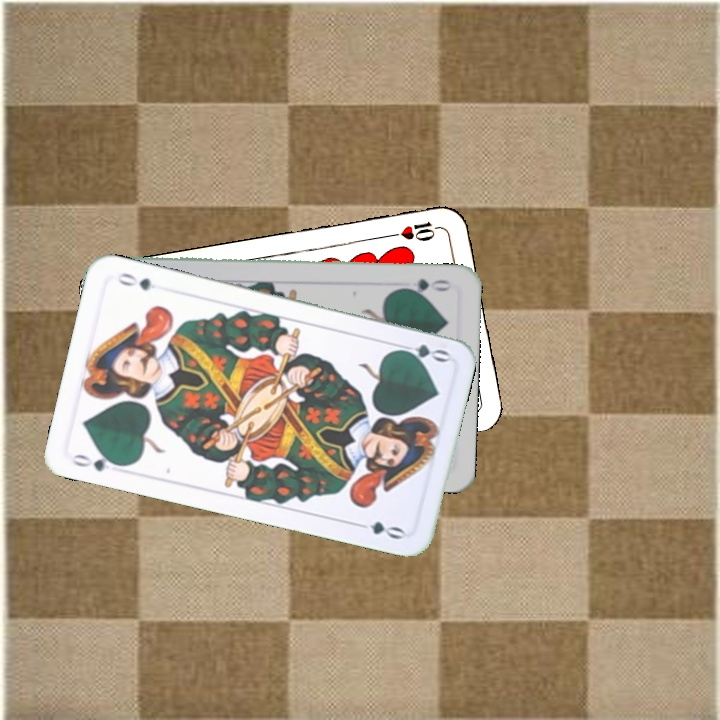GO: (391, 339, 451, 365), (67, 449, 127, 474), (396, 274, 454, 297)
H10: (386, 217, 445, 244)
